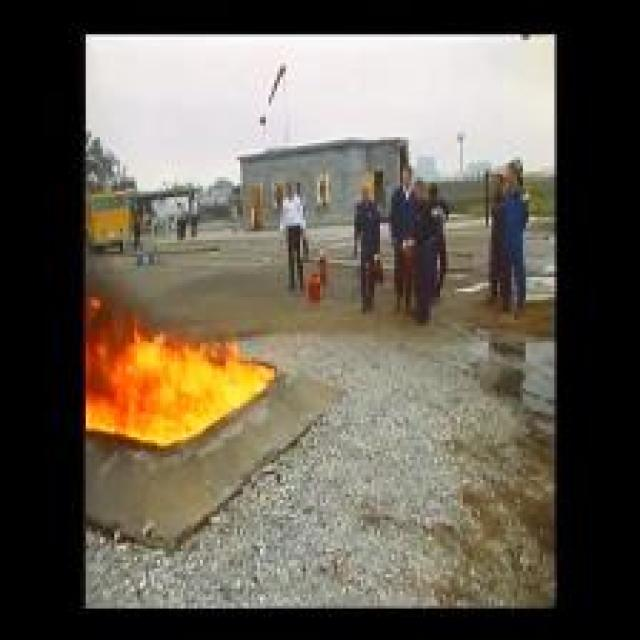fire: (85, 257, 278, 450)
